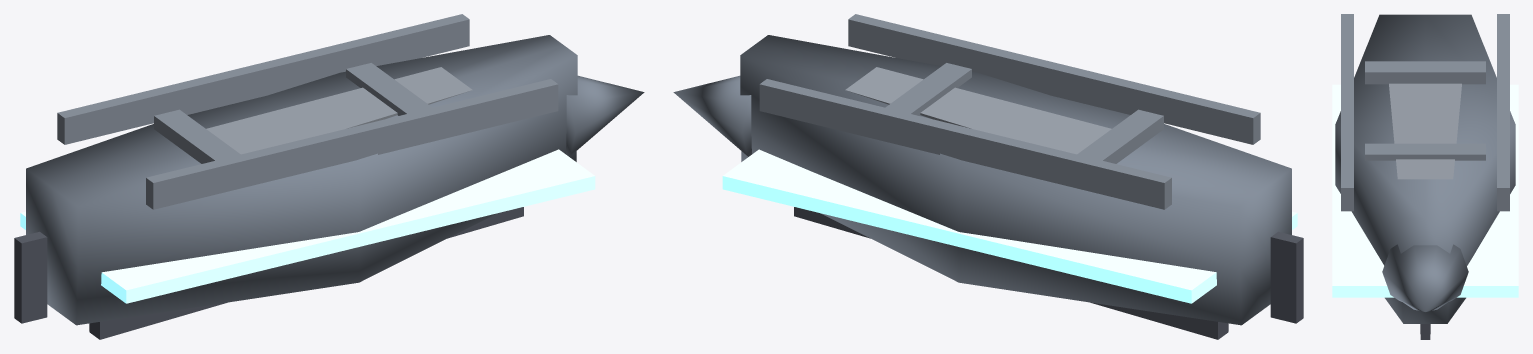
Rendered from Phantom_LittleBoat.fbx.
3 views of the same model, side by side, from view 1: azimuth 30°, elevation 25°; view 2: azimuth 150°, elevation 25°; view 3: azimuth 270°, elevation 25° (orthographic). The views are drawn at different scales.
Parts seen in each view (by area): view 1: Phantom_LittleBoat; view 2: Phantom_LittleBoat; view 3: Phantom_LittleBoat.
Part boxes in pixels (bbox=[...]): Phantom_LittleBoat: bbox=[14, 14, 644, 339]; Phantom_LittleBoat: bbox=[673, 14, 1303, 339]; Phantom_LittleBoat: bbox=[1332, 14, 1518, 339].
Size of the model in its own units: 1.47 by 0.416 by 0.43.
